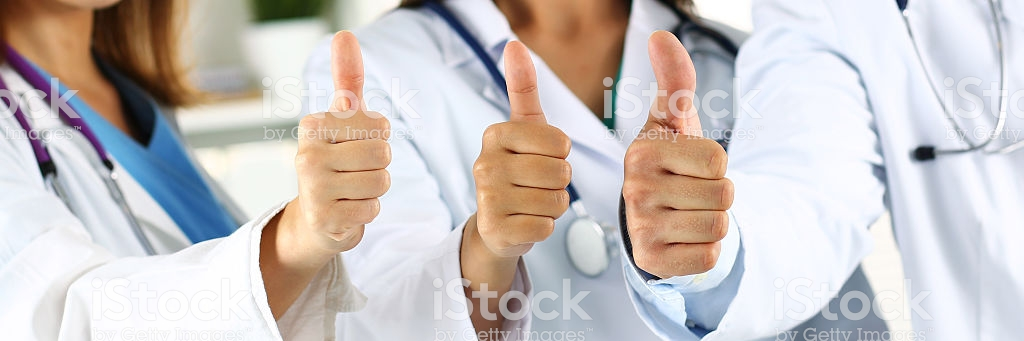thumbsup: (620, 29, 737, 280), (471, 38, 576, 260), (292, 28, 395, 254)
